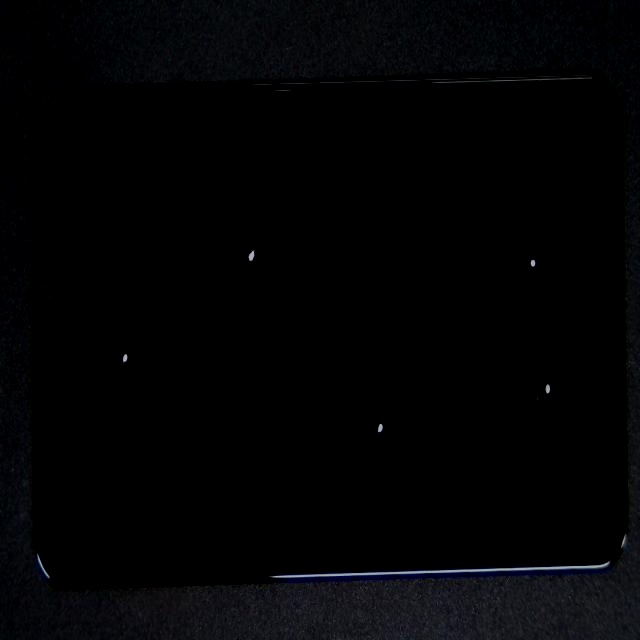stain: (187, 156, 562, 640), (271, 157, 640, 578), (269, 81, 640, 369), (122, 62, 363, 376), (57, 131, 161, 536)
